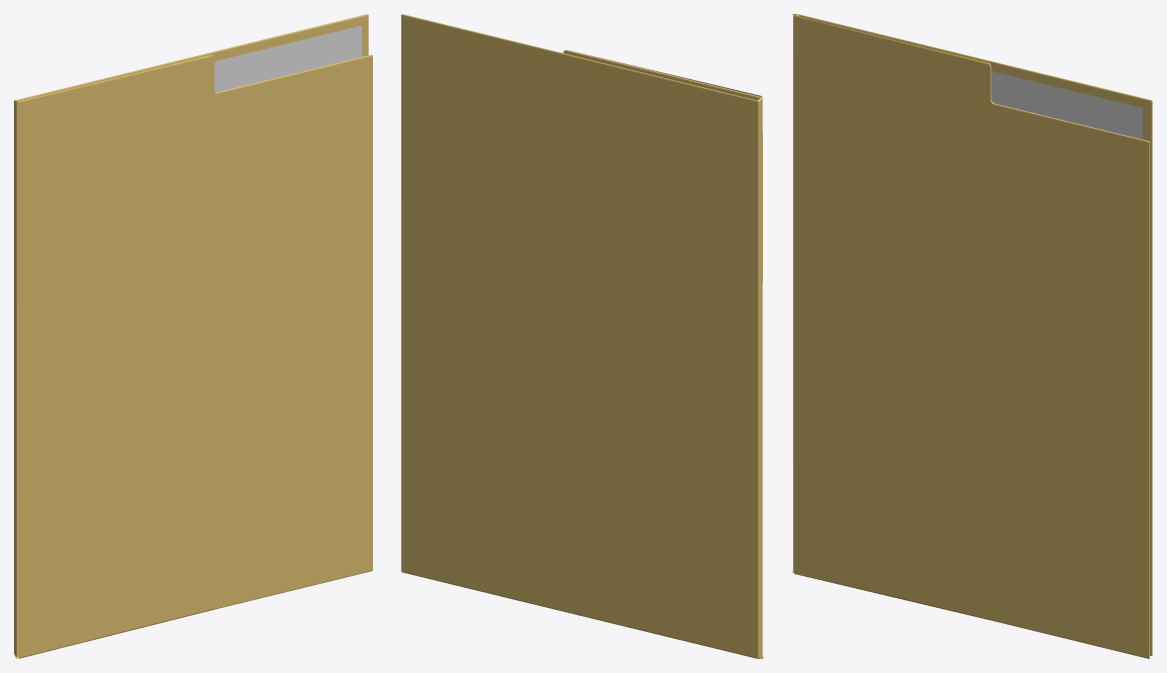
File: case_file_og.fbx
The picture shows the model from 3 angles, left to right: view 1: azimuth 30°, elevation 25°; view 2: azimuth 150°, elevation 25°; view 3: azimuth 330°, elevation 25°; orthographic projection.
Parts seen in each view (by area): view 1: Plane, Plane.001; view 2: Plane; view 3: Plane, Plane.001.
Part boxes in pixels (x1,y1,x2,y2): Plane: (14,14,372,658); Plane.001: (214,25,361,92); Plane: (401,14,763,658); Plane: (792,14,1152,658); Plane.001: (991,71,1142,139).
Bounding box in the file's own units: 403 × 603 × 8.9.
